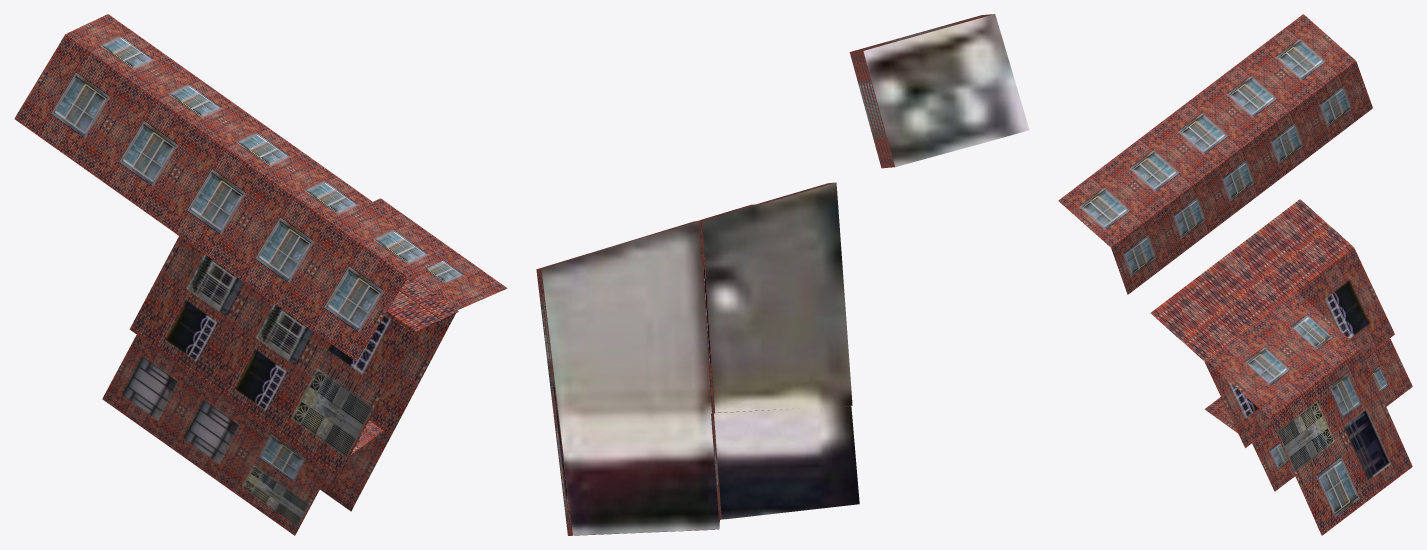
3 renders of one model, left to right at view 1: azimuth 30°, elevation 25°; view 2: azimuth 150°, elevation 25°; view 3: azimuth 270°, elevation 25°, orthographic. The views are drawn at different scales.
Size of the model in its own units: 19.92 by 21.9 by 17.93.
14 materials, 14 textured.
